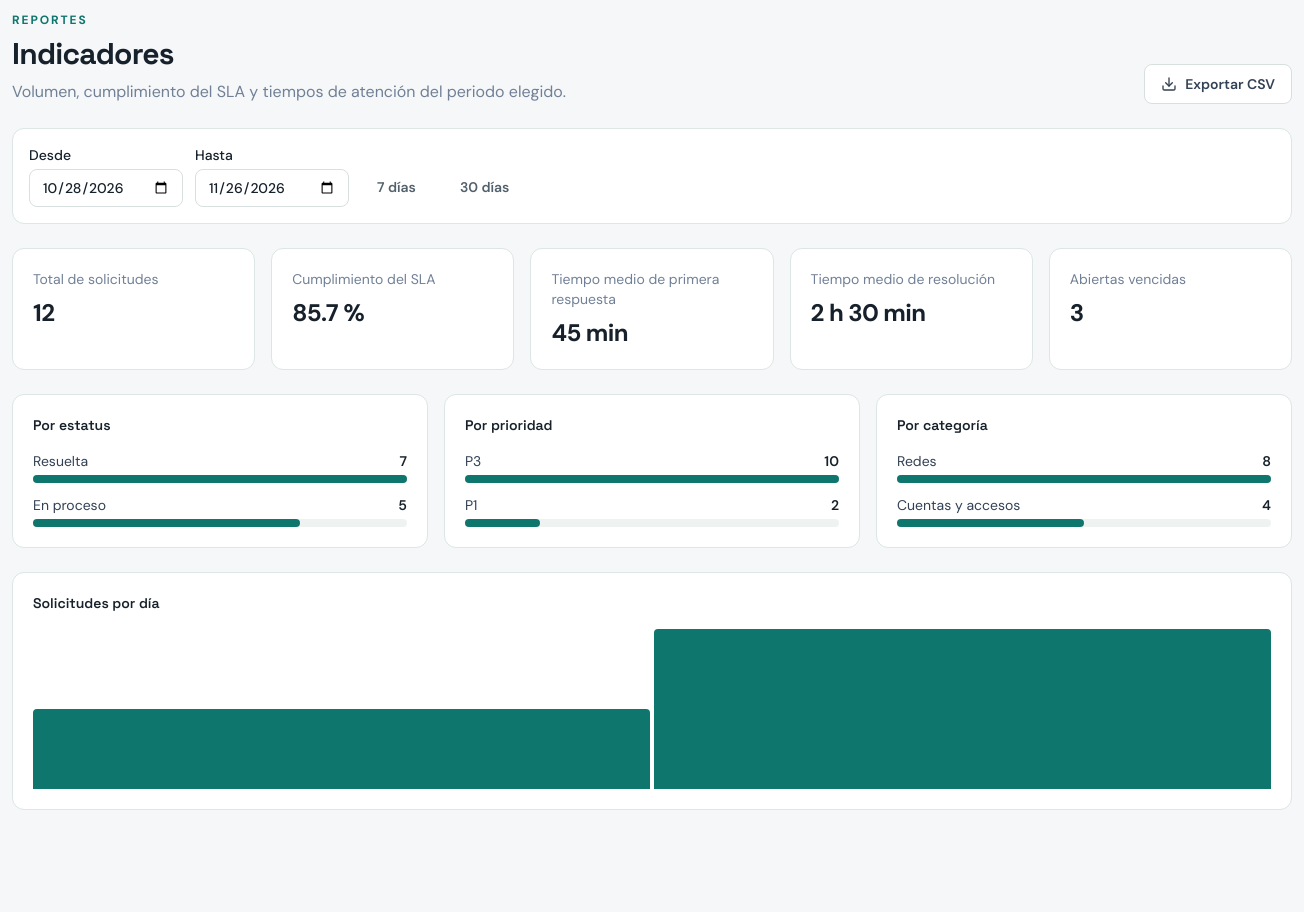
Scenario: IndicadoresPage (S5-11) › muestra el error del servidor al exportar
The image size is (1304, 912).
Expected: the element named "Tarjetas de indicadores" is shown, [12,248,1292,370]
What coordinates should you click on to do the following:
click the button "Exportar CSV"
I would click on:
 (1218, 84)
Its box is [1144,64,1292,104].
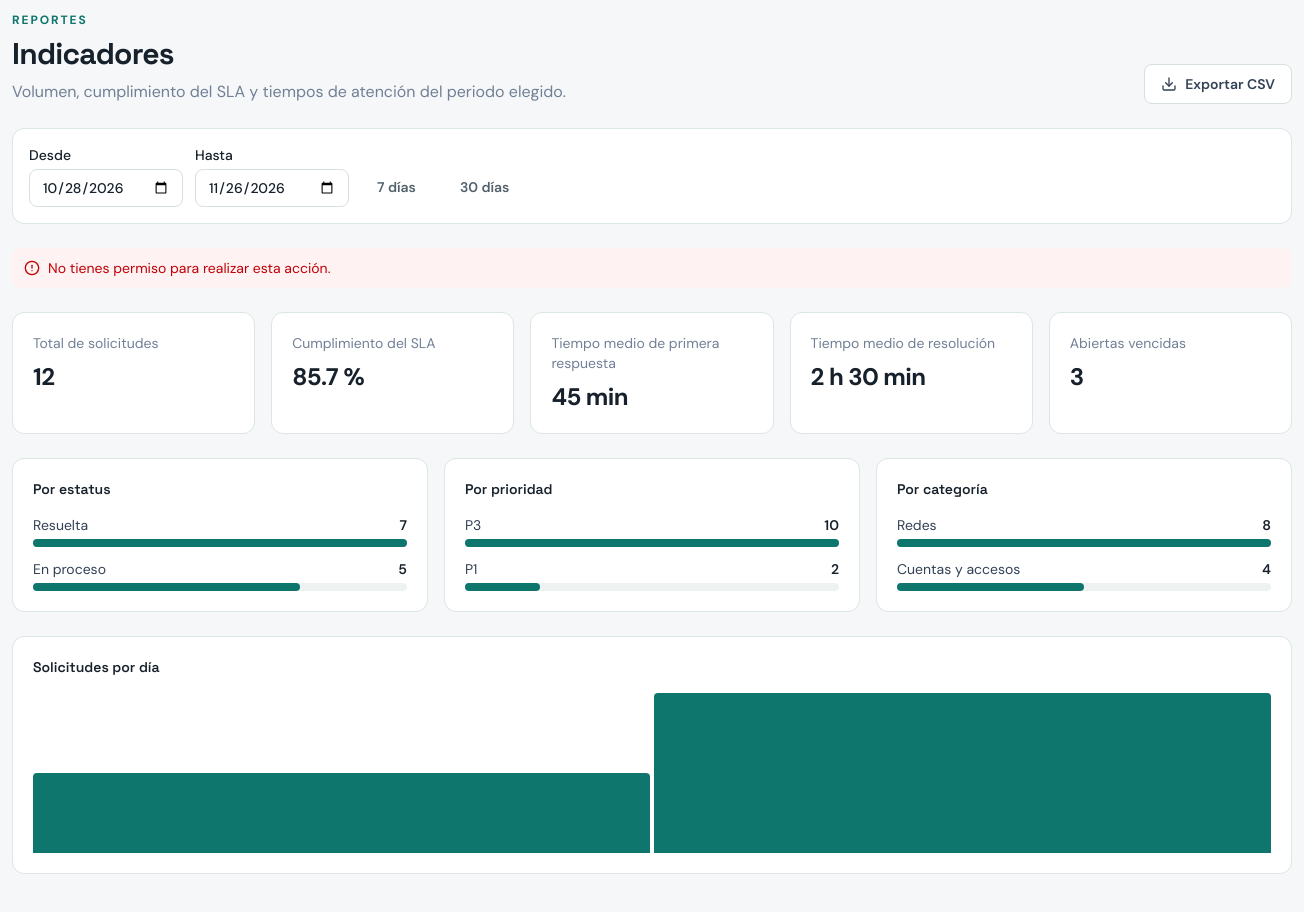
Result: the message "No tienes permiso para realizar esta acción." is shown at [12,248,1292,288]
